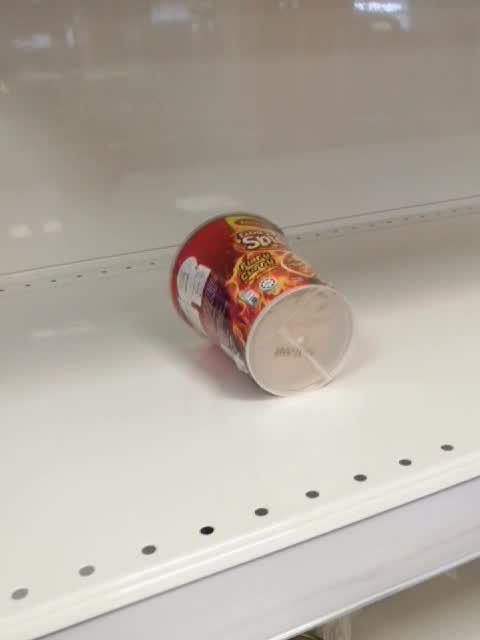maggi: (169, 212, 356, 400)
